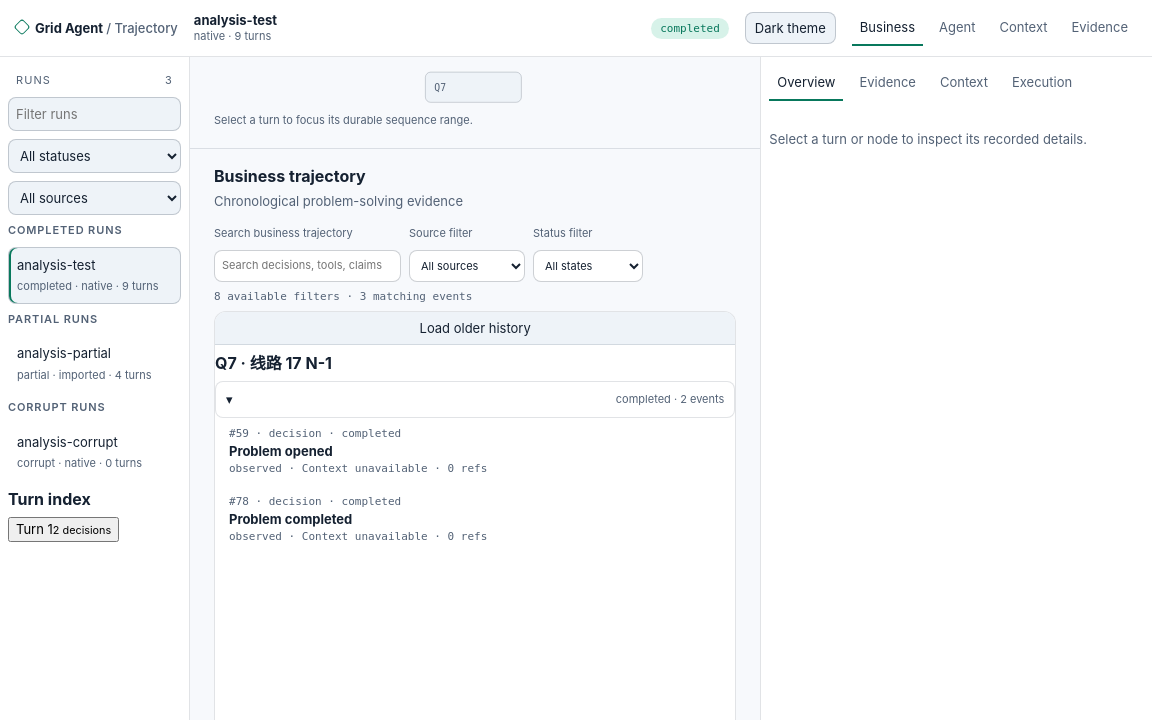
Test: App shell › shows unsupported when loading an older business cursor returns HTTP 501
The width and height of the screenshot is (1152, 720).
Click the button "Load older history": click(475, 329) x1=215 y1=312 x2=735 y2=345
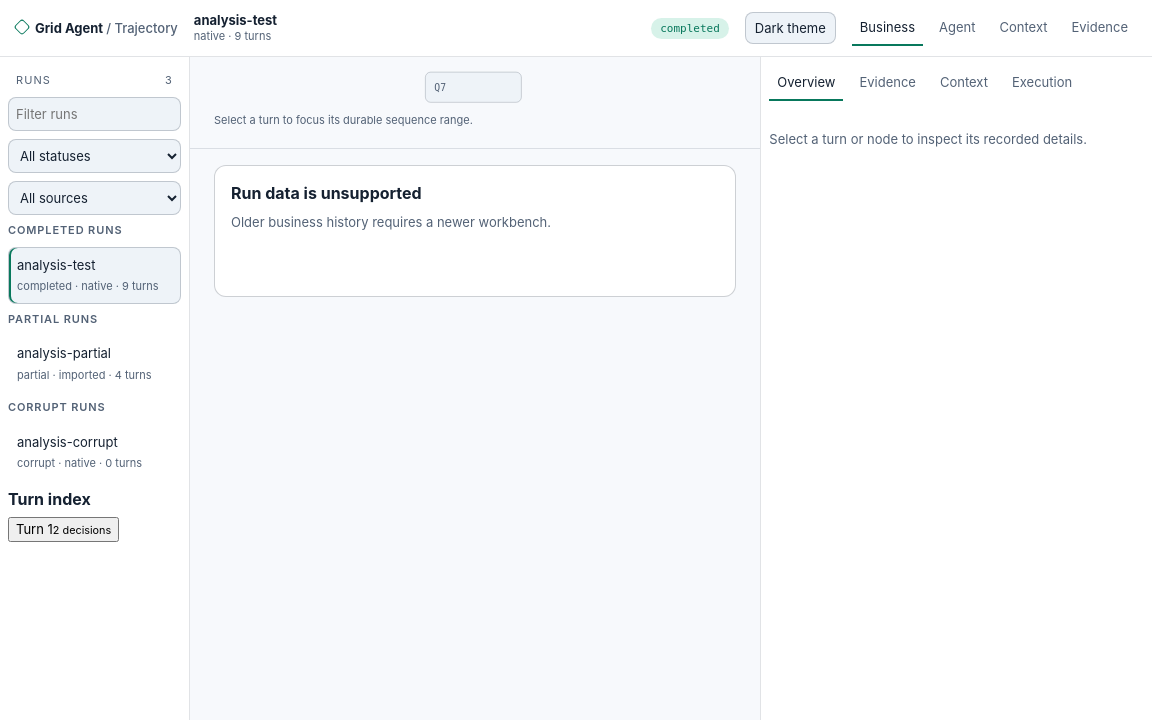
Now the message with test id "state-unsupported" shows "Older business history requires a newer workbench.", box x1=231 y1=214 x2=551 y2=230
